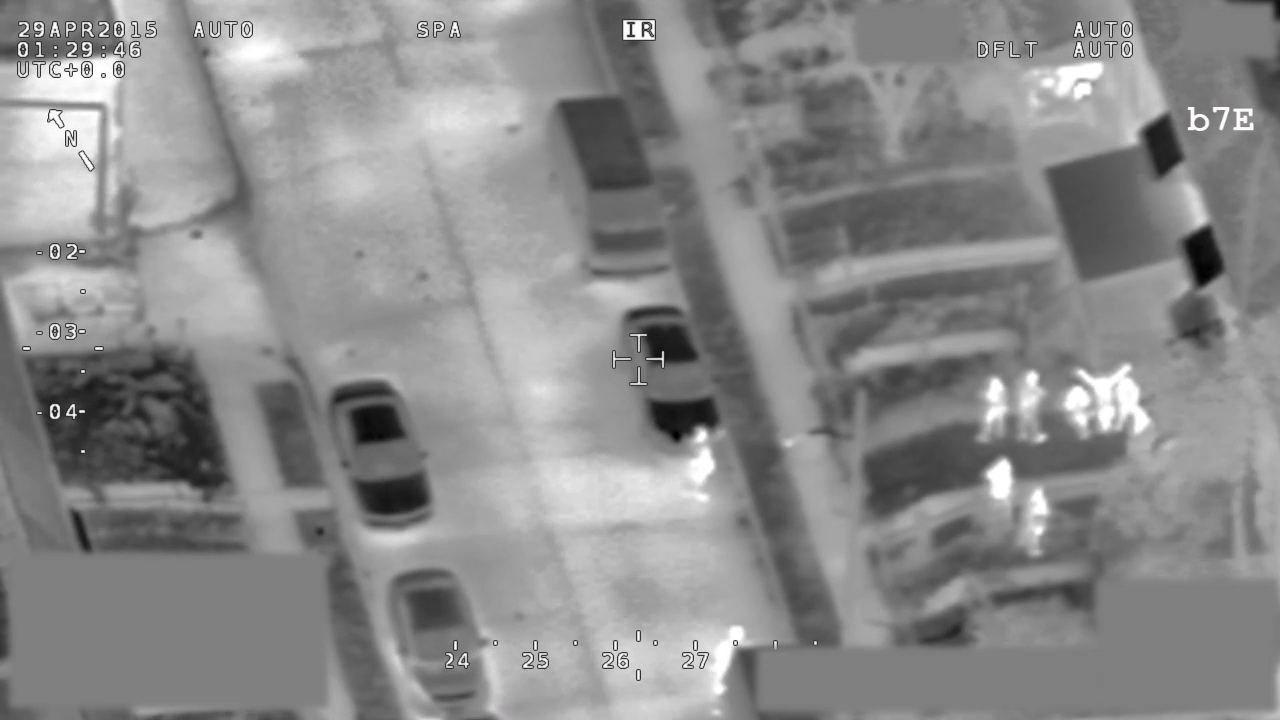vehicle: (542, 95, 676, 282), (321, 380, 438, 531), (377, 569, 497, 716), (617, 307, 728, 453)
